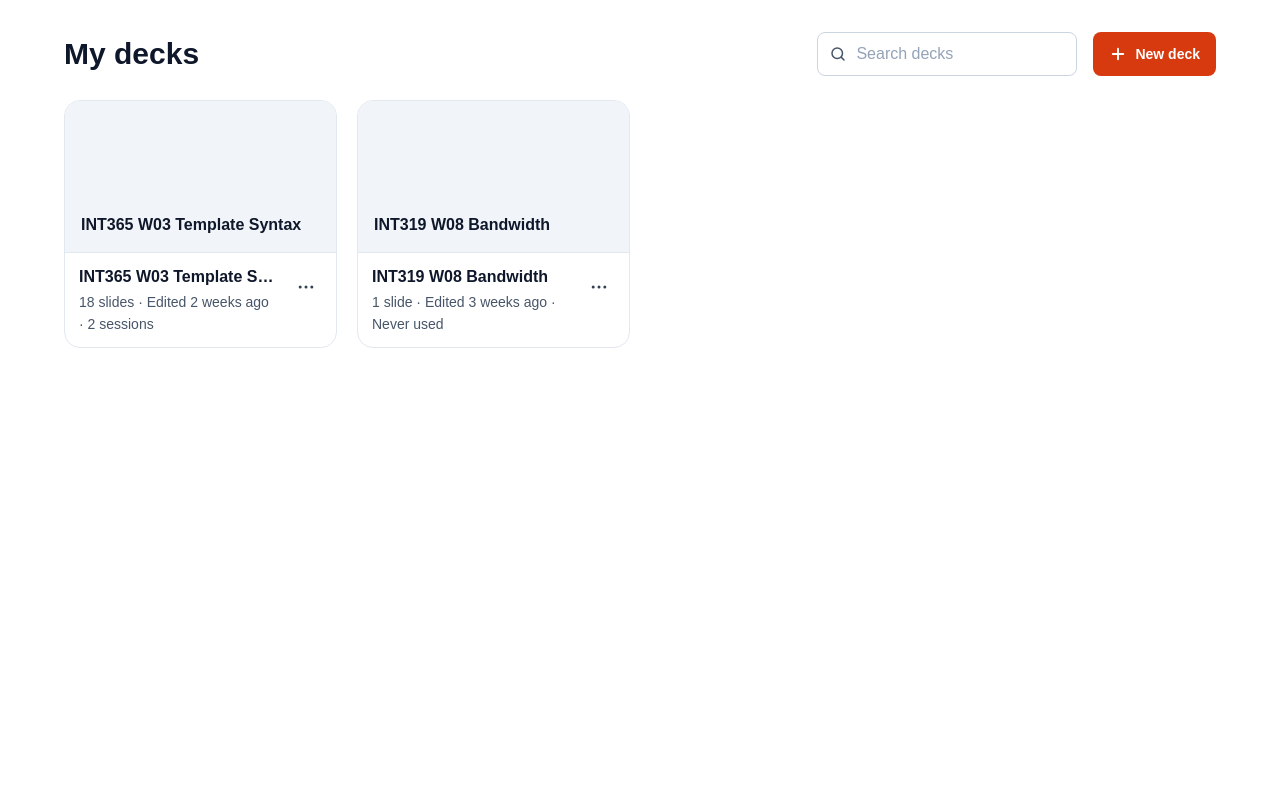
DeckList › deletes a deck only after the confirm
The width and height of the screenshot is (1280, 800).
Expected: the link "INT365 W03 Template Syntax" is shown, left=79, top=265, right=276, bottom=289
Click the button named "Actions for INT365 W03 Template Syntax". click: point(306, 287)
box: left=284, top=265, right=328, bottom=309
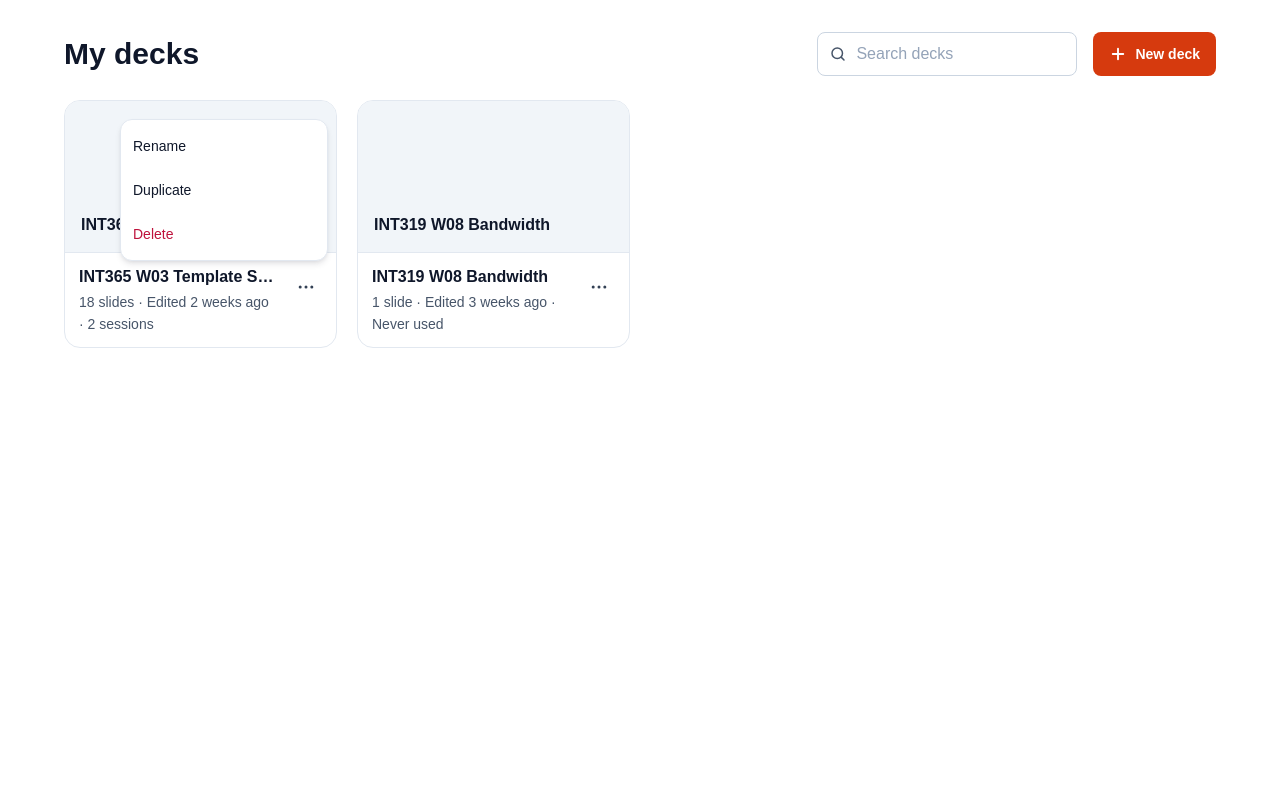
Click the button "Delete". click: point(224, 234)
box: left=121, top=212, right=327, bottom=256
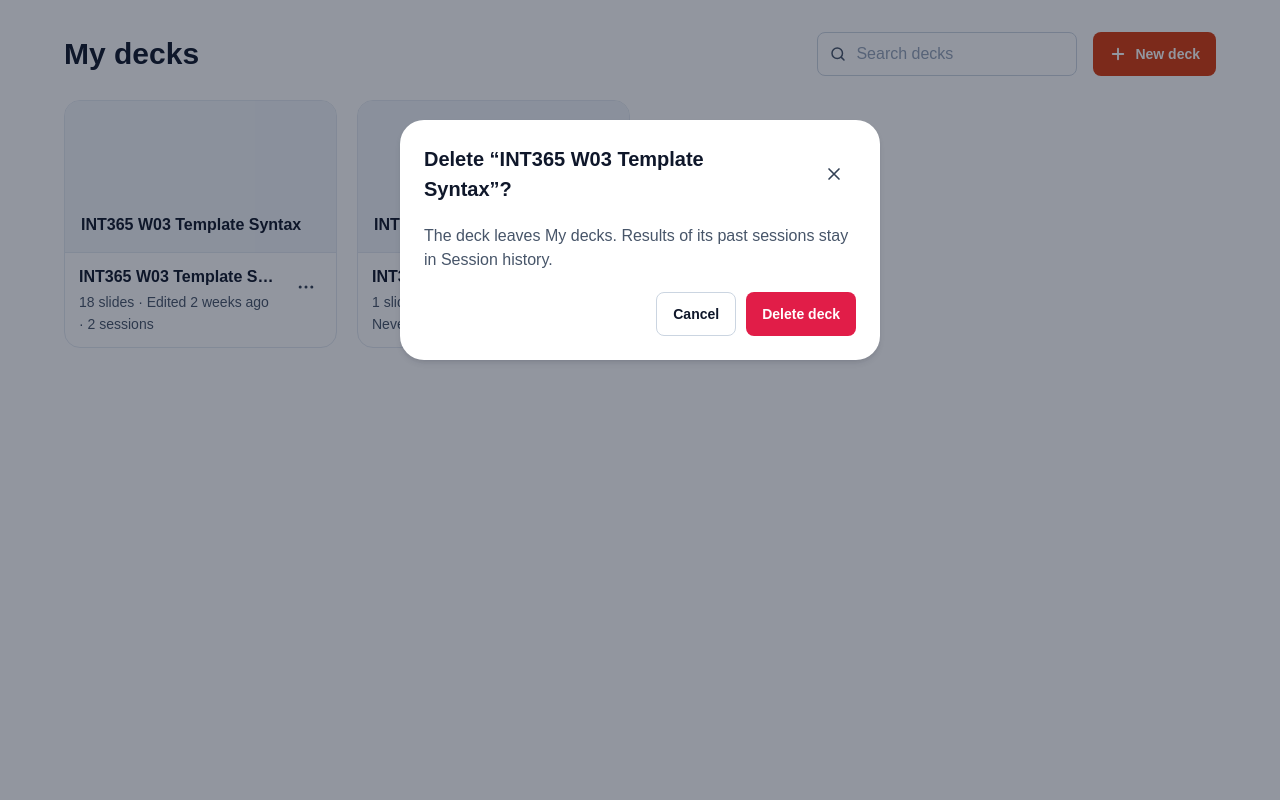
Click the button "Cancel". click: point(696, 314)
box: left=656, top=292, right=736, bottom=336
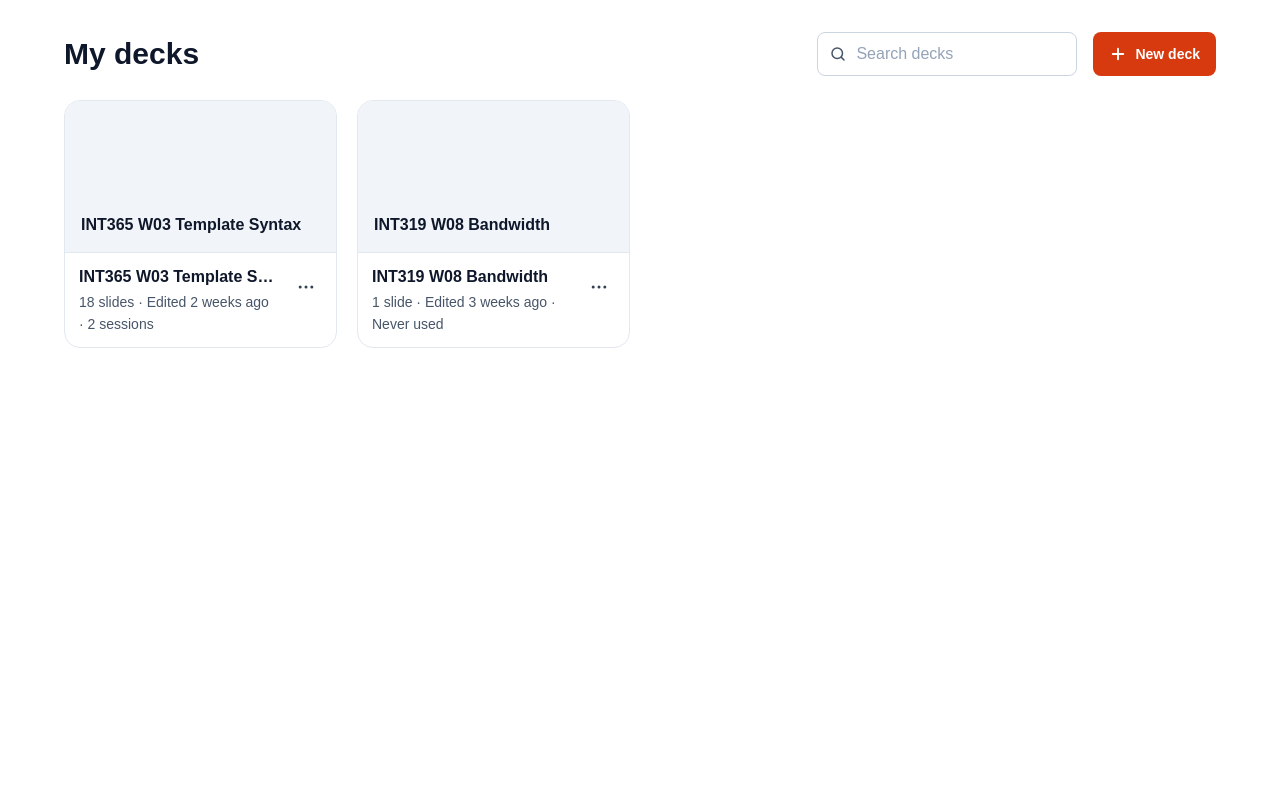
Expected: the link "INT365 W03 Template Syntax" is shown, left=79, top=265, right=276, bottom=289
Click the button named "Actions for INT365 W03 Template Syntax". click: point(306, 287)
box: left=284, top=265, right=328, bottom=309
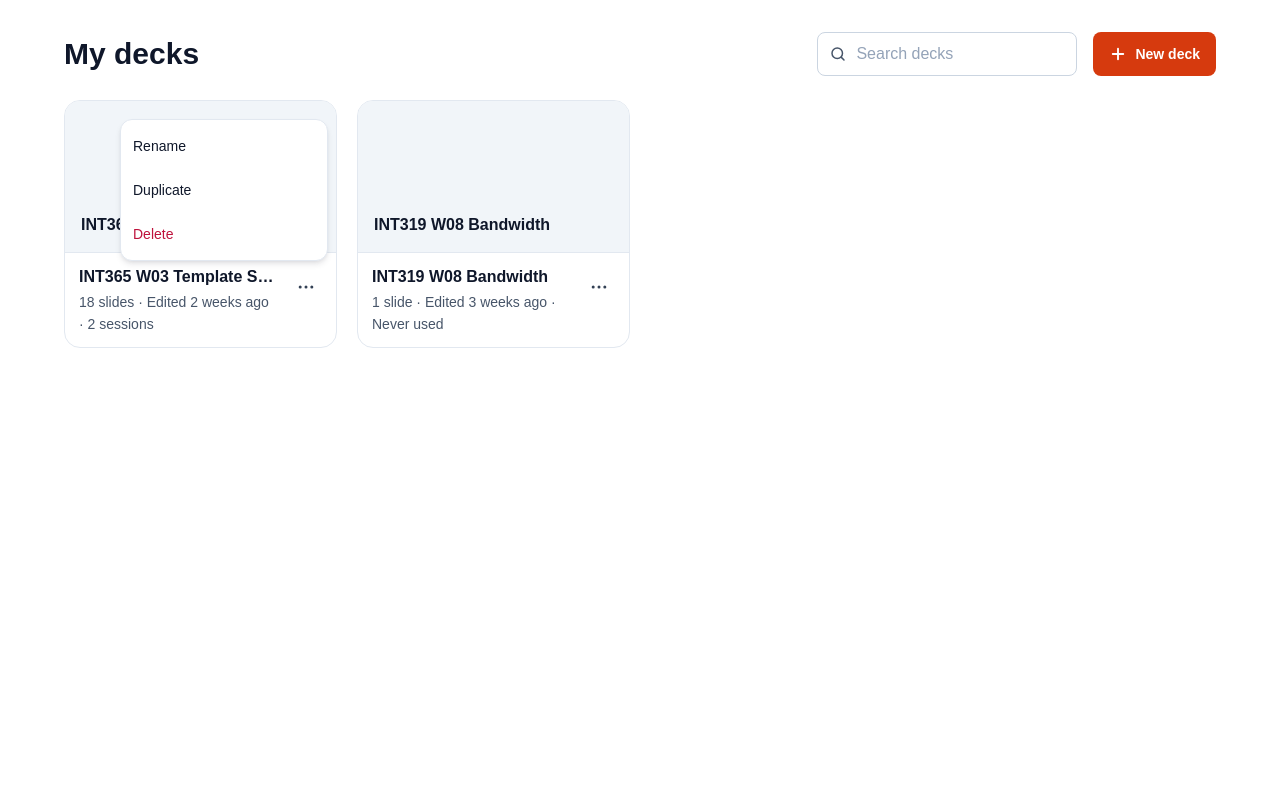
Click the button "Delete". click: point(224, 234)
box: left=121, top=212, right=327, bottom=256
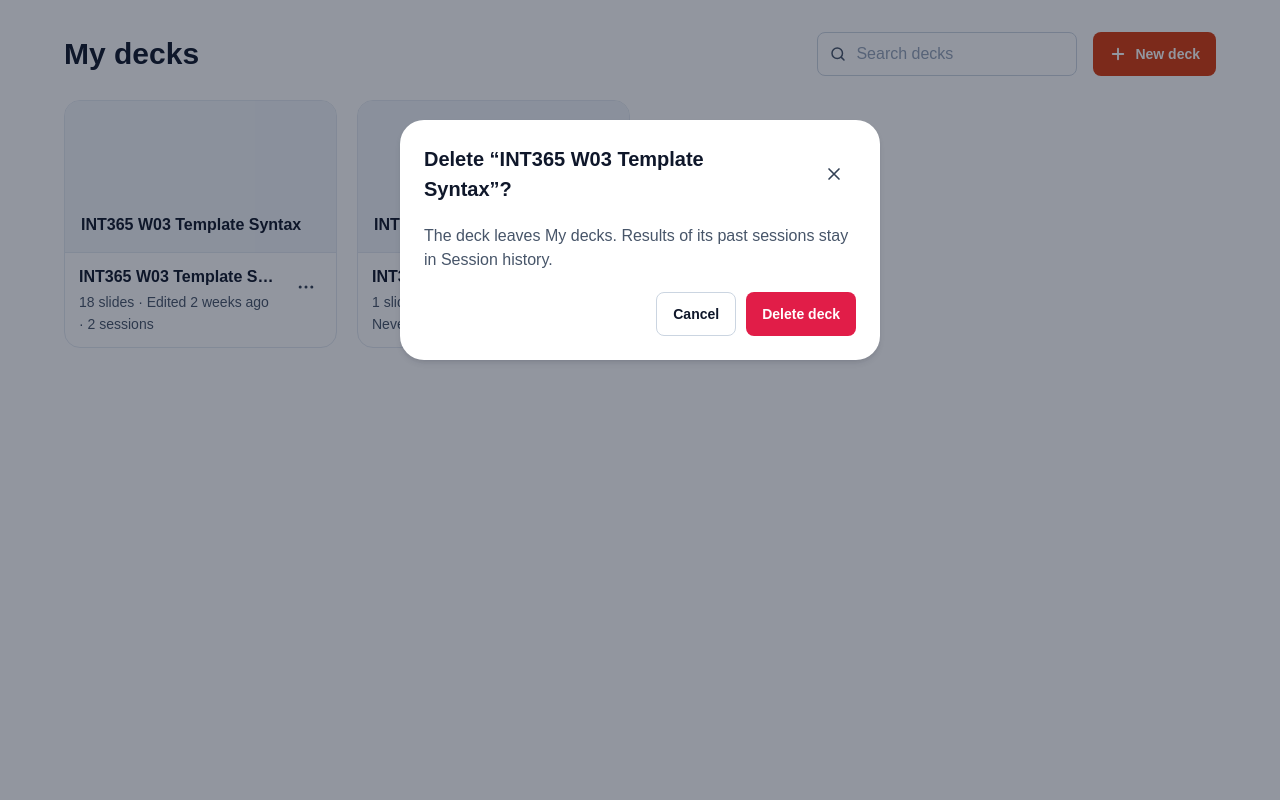
Click the button "Delete deck". click: point(801, 314)
box: left=746, top=292, right=856, bottom=336
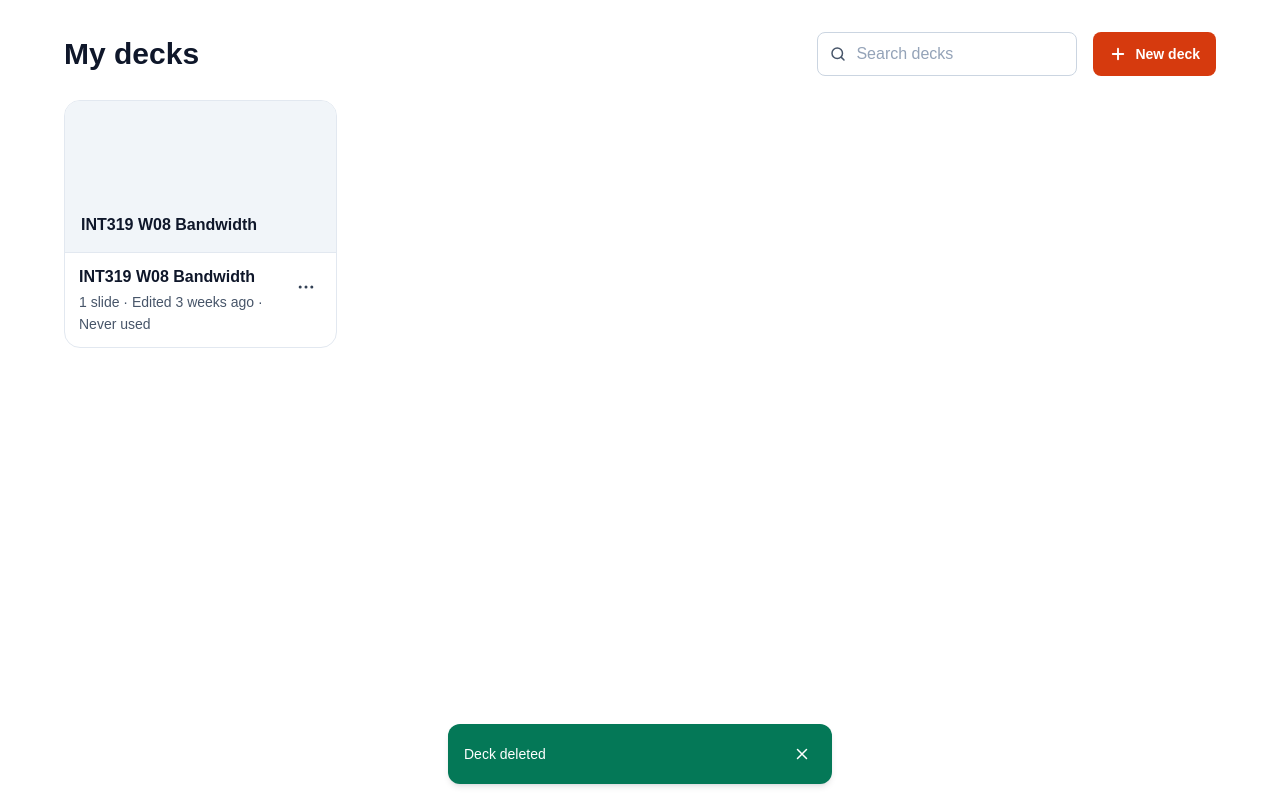
Expected: the link "INT319 W08 Bandwidth" is shown, left=79, top=265, right=276, bottom=289
Result: the text "INT365 W03 Template Syntax" is gone
